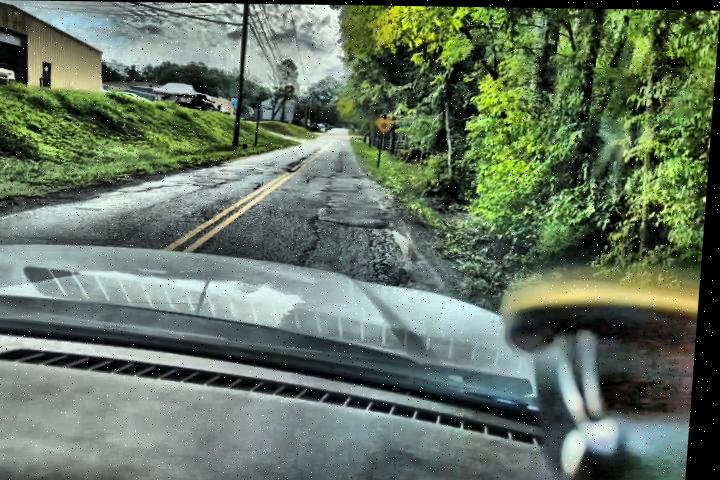pothole: (285, 163, 304, 176)
